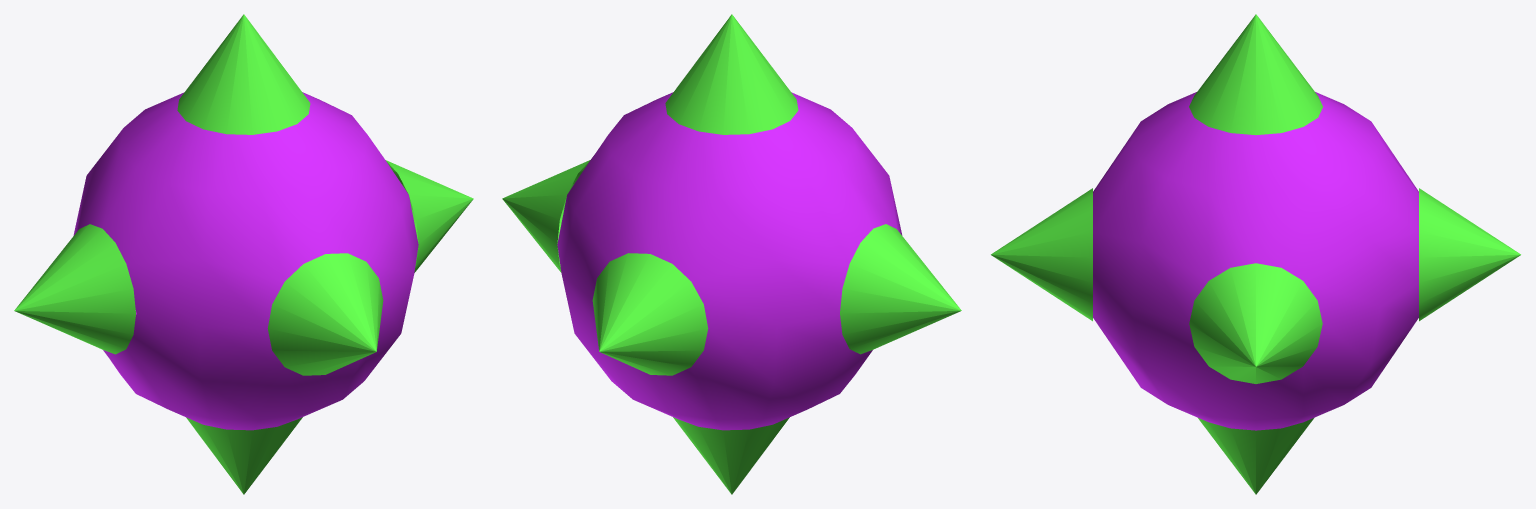
The model's file is Juggernaut Pickup.FBX.
3 renders of one model, left to right at view 1: azimuth 30°, elevation 25°; view 2: azimuth 150°, elevation 25°; view 3: azimuth 270°, elevation 25°, orthographic.
Parts seen in each view (by area): view 1: Sphere002; view 2: Sphere002; view 3: Sphere002.
Part boxes in pixels (x1,y1,x2,y2): Sphere002: [14, 14, 473, 494]; Sphere002: [502, 14, 961, 494]; Sphere002: [991, 14, 1520, 494].
Size of the model in its own units: 5.62 by 5.61 by 5.62.
